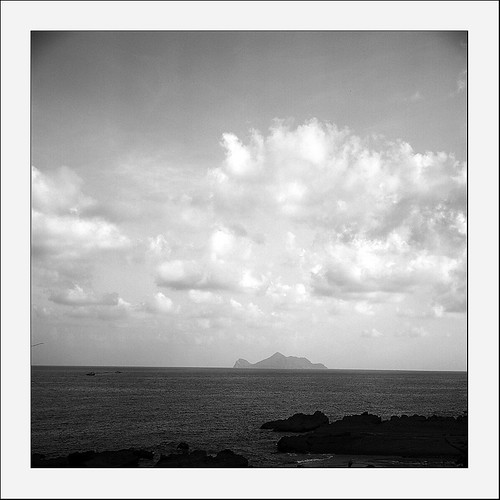turtleIslandLeft: (231, 351, 328, 371)
